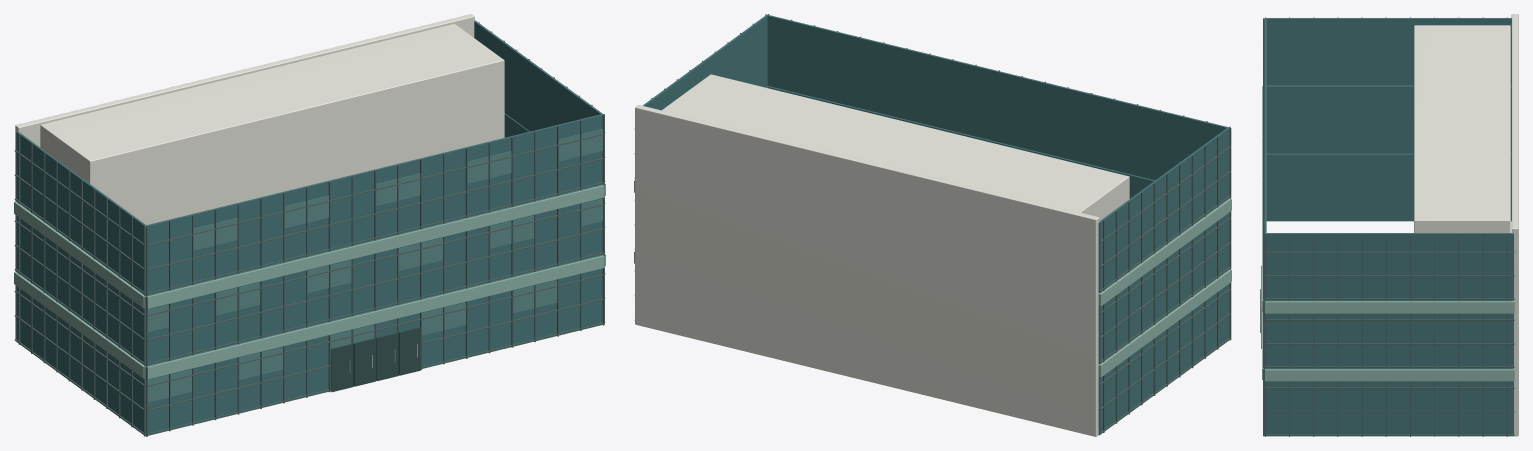
Rendered from main_body.glb.
The picture shows the model from 3 angles, left to right: view 1: azimuth 30°, elevation 25°; view 2: azimuth 150°, elevation 25°; view 3: azimuth 270°, elevation 25°; orthographic projection. The views are drawn at different scales.
Parts seen in each view (by area): view 1: Interior rear core, Front recessed glass level 2, Front recessed glass level 1, Front recessed glass level 0, Side recessed glass level 2, Side recessed glass level 1, Side recessed glass level 0, Front jade floor band, Front jade floor band.001, Side recessed glass level 2.001, Rear wall - provisional simple geometry, Side jade floor band (+14 smaller); view 2: Rear wall - provisional simple geometry, Front recessed glass level 2, Interior rear core, Side recessed glass level 2, Side recessed glass level 0, Side recessed glass level 1, Side recessed glass level 2.001, Side jade floor band.002, Side jade floor band, Front recessed glass level 1; view 3: Interior rear core, Side recessed glass level 2.001, Side recessed glass level 1.001, Side recessed glass level 0.001, Side recessed glass level 2, Side recessed glass level 0, Side recessed glass level 1, Side jade floor band.001, Side jade floor band.003, Rear wall - provisional simple geometry, Front recessed glass level 2, Side horizontal frame.001 (+8 smaller).
Part boxes in pixels (bbox=[...]): Interior rear core: bbox=[40, 24, 504, 224]; Front recessed glass level 2: bbox=[146, 114, 602, 294]; Front recessed glass level 1: bbox=[148, 184, 602, 365]; Front recessed glass level 0: bbox=[146, 255, 602, 435]; Side recessed glass level 2: bbox=[16, 131, 146, 295]; Side recessed glass level 1: bbox=[16, 202, 146, 365]; Side recessed glass level 0: bbox=[16, 272, 146, 435]; Front jade floor band: bbox=[147, 255, 604, 379]; Front jade floor band.001: bbox=[147, 185, 604, 308]; Side recessed glass level 2.001: bbox=[474, 20, 603, 131]; Rear wall - provisional simple geometry: bbox=[15, 14, 474, 338]; Side jade floor band: bbox=[14, 272, 145, 378]; Rear wall - provisional simple geometry: bbox=[635, 105, 1099, 436]; Front recessed glass level 2: bbox=[767, 15, 1228, 180]; Interior rear core: bbox=[662, 74, 1129, 220]; Side recessed glass level 2: bbox=[1098, 127, 1229, 292]; Side recessed glass level 0: bbox=[1098, 270, 1229, 435]; Side recessed glass level 1: bbox=[1098, 199, 1229, 363]; Side recessed glass level 2.001: bbox=[642, 14, 767, 110]; Side jade floor band.002: bbox=[1099, 198, 1231, 306]; Side jade floor band: bbox=[1099, 269, 1231, 377]; Front recessed glass level 1: bbox=[767, 86, 1154, 198]; Interior rear core: bbox=[1414, 25, 1510, 232]; Side recessed glass level 2.001: bbox=[1265, 233, 1513, 300]; Side recessed glass level 1.001: bbox=[1266, 300, 1513, 368]; Side recessed glass level 0.001: bbox=[1265, 368, 1513, 436]; Side recessed glass level 2: bbox=[1265, 18, 1511, 85]; Side recessed glass level 0: bbox=[1266, 153, 1511, 221]; Side recessed glass level 1: bbox=[1266, 86, 1511, 153]; Side jade floor band.001: bbox=[1265, 369, 1514, 381]; Side jade floor band.003: bbox=[1265, 301, 1514, 313]; Rear wall - provisional simple geometry: bbox=[1511, 14, 1518, 436]; Front recessed glass level 2: bbox=[1264, 18, 1266, 299]; Side horizontal frame.001: bbox=[1265, 434, 1514, 435].
Bounding box in the file's own units: 28.75 × 12.8 × 14.44.
